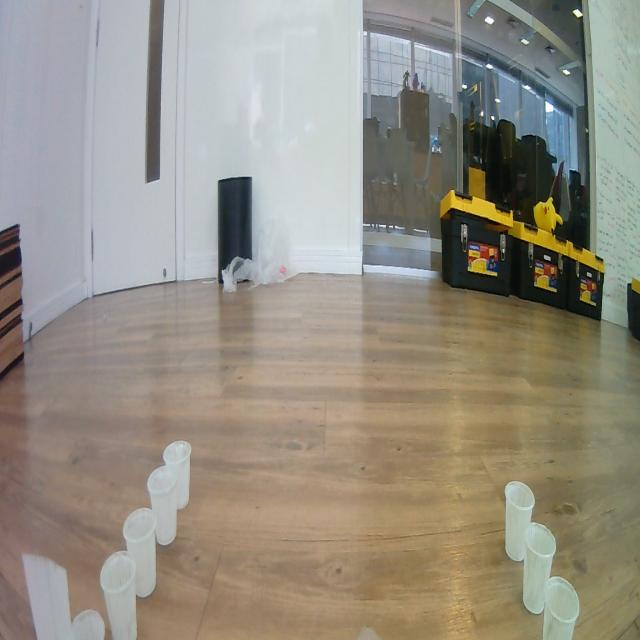erva_daninha: (19, 546, 73, 640)
planta: (100, 550, 138, 640), (522, 523, 556, 614), (123, 508, 156, 598), (504, 480, 536, 562), (542, 576, 580, 640), (148, 465, 177, 546), (162, 440, 192, 511), (71, 609, 105, 640)
